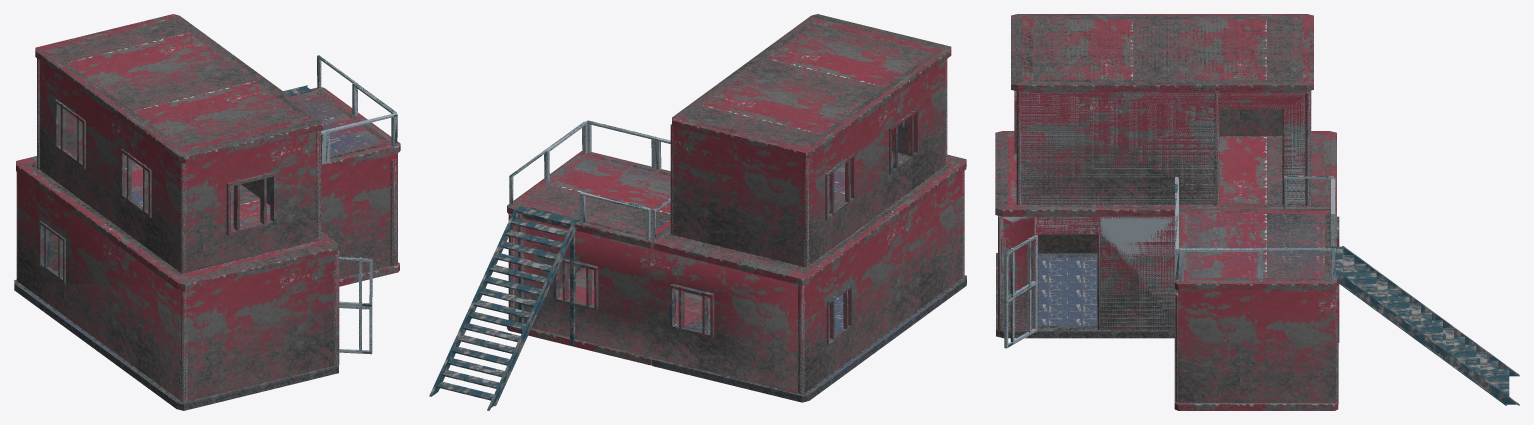
The model's file is old house 3.fbx.
3 views of the same model, side by side, from view 1: azimuth 30°, elevation 25°; view 2: azimuth 150°, elevation 25°; view 3: azimuth 270°, elevation 25° (orthographic). The views are drawn at different scales.
Visible parts, largest first — view 1: Group1; view 2: Group1; view 3: Group1.
Boxes of the visible parts, left/top/right/bottom form: Group1: left=14, top=14, right=400, bottom=410; Group1: left=429, top=14, right=966, bottom=410; Group1: left=995, top=14, right=1519, bottom=410.
Bounding box in the file's own units: 317 × 240 × 458.
